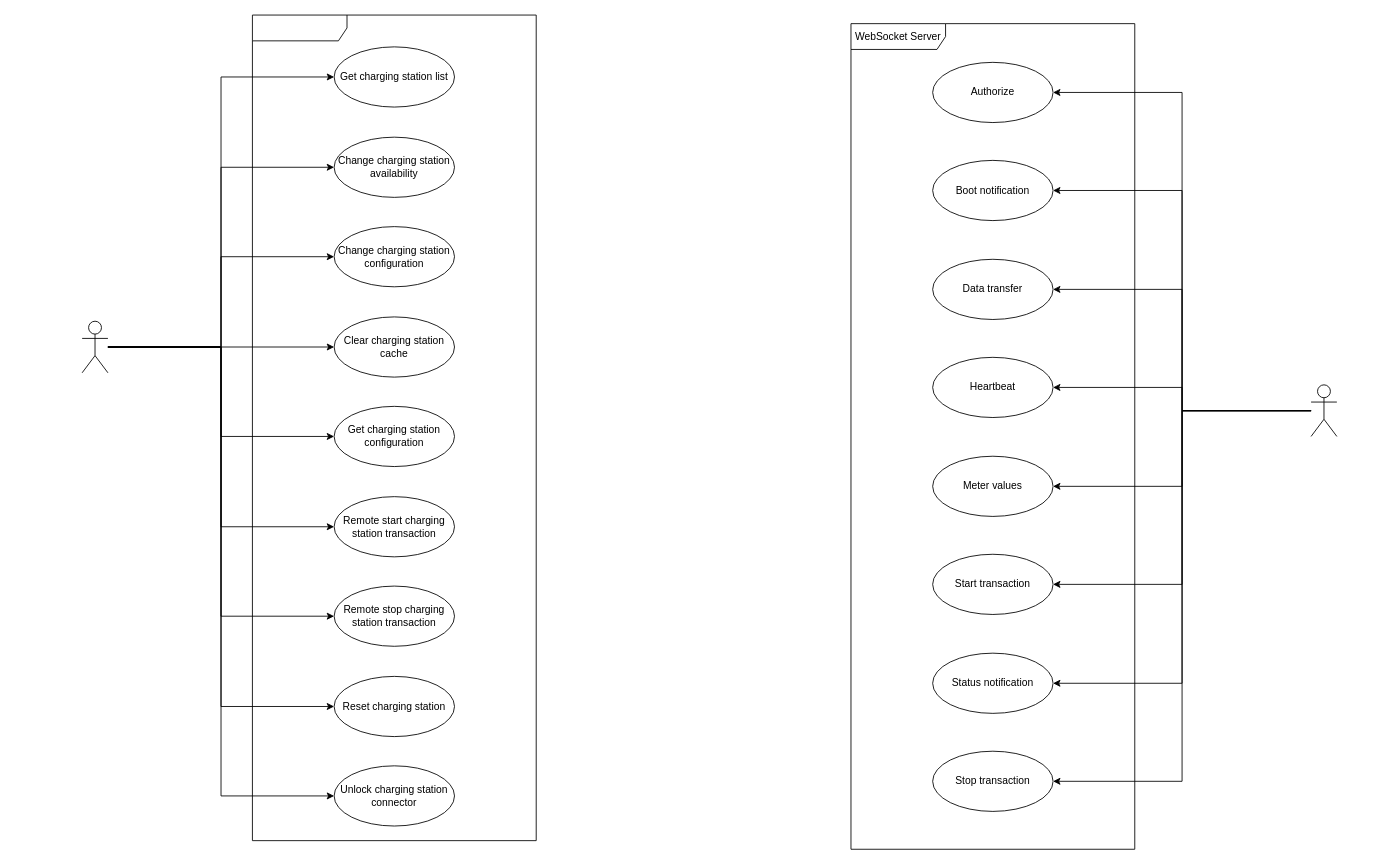
This 1376x864 diagram has some shape labels left out. The shapes that lost their labels are listed below. From the top down, each one's centre as x and y in pixels, then its label:
the point at 94,346: Web app/Charging station operator
the point at 394,427: REST Server
the point at 1323,410: Charging station
